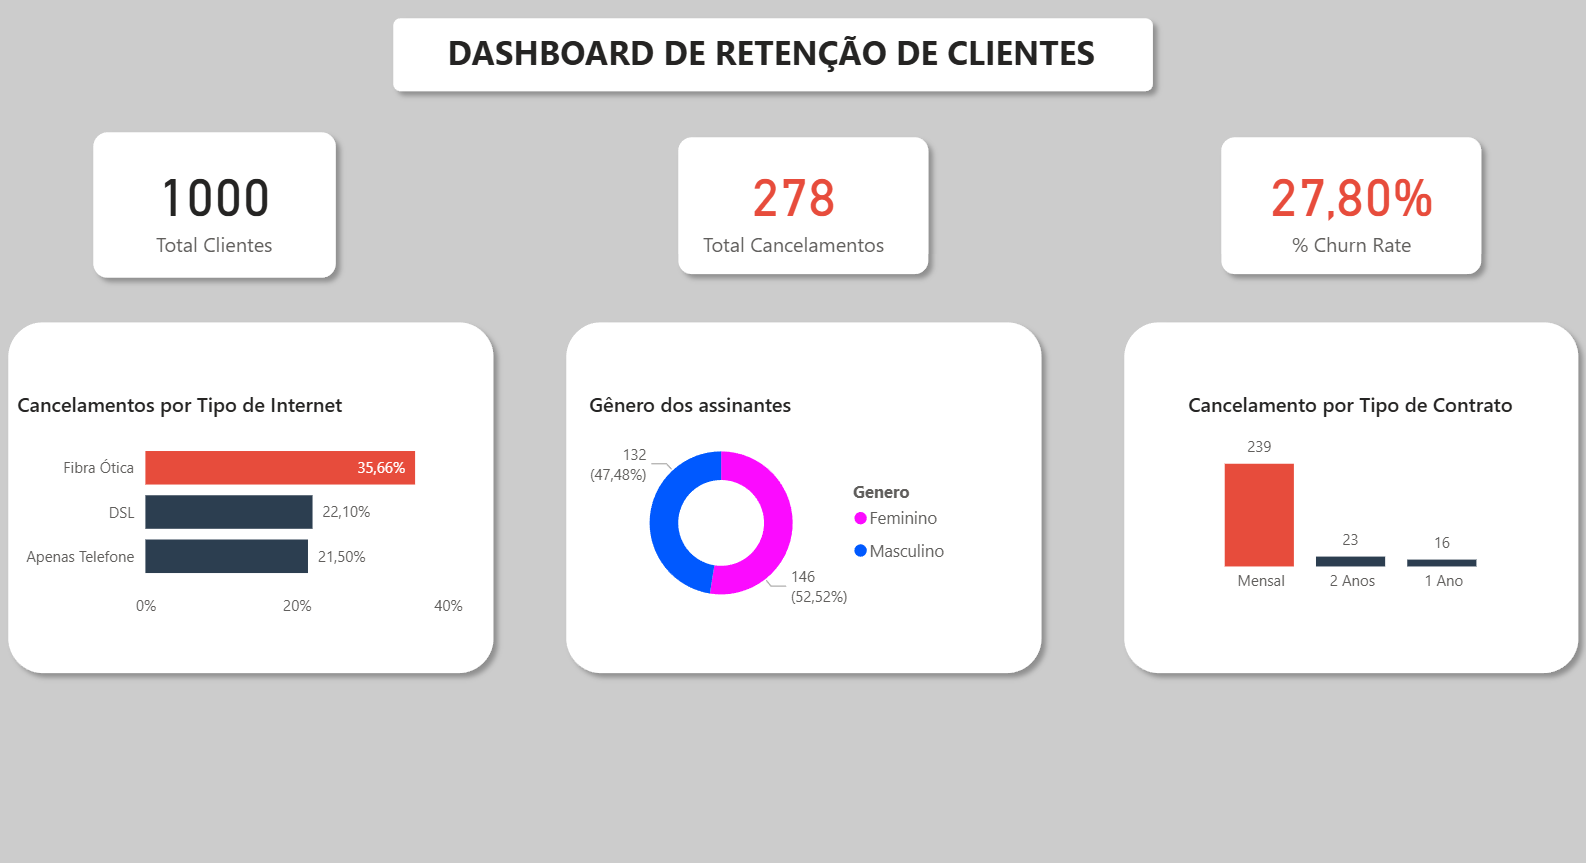

The page's visual inventory and layout, read from the dashboard file:
{"tool":"powerbi","page":{"name":"Página 1","canvas":[1280,720],"ordinal":0},"visuals":[{"type":"shape","box":[309.5,6.7,628.5,76.6],"z":0},{"type":"shape","box":[538,102,219,128],"z":1000},{"type":"shape","box":[975,102,227,128],"z":2000},{"type":"shape","box":[68,98,213,135],"z":3000},{"type":"shape","box":[897,251,383,300],"z":4000},{"type":"shape","box":[0,251,408,300],"z":5000},{"type":"shape","box":[448,251,400,300],"z":6000},{"type":"textbox","box":[339.2,19.2,566.2,46],"z":7000},{"type":"card","fields":{"Values":["_Medidas.Total Clientes"]},"box":[106,120,137,92],"z":8000},{"type":"card","fields":{"Values":["_Medidas.Total Cancelamentos"]},"box":[556,120,168,92],"z":9000},{"type":"card","fields":{"Values":["_Medidas.% Churn Rate"]},"box":[996,120,186,92],"z":10000},{"type":"clusteredBarChart","title":"Cancelamentos por Tipo de Internet","fields":{"Category":["base_telecom_techconnect.Tipo_Internet"],"Y":["_Medidas.% Churn Rate"]},"box":[11,315,385,191],"z":11000},{"type":"clusteredColumnChart","title":"Cancelamento por Tipo de Contrato","fields":{"Category":["base_telecom_techconnect.Tipo_Contrato"],"Y":["_Medidas.Total Cancelamentos"]},"box":[952,315,274,171],"z":12000},{"type":"donutChart","title":"Gênero dos assinantes","fields":{"Category":["base_telecom_techconnect.Genero"],"Y":["_Medidas.Total Cancelamentos"]},"box":[471,315,305,191],"z":13000}]}

Visuals, with their boxes on the page's 1280x720 design canvas (x1, y1, x2, y2). These are canvas units, not pixel positions in the 1586x863 screenshot, which may show the page scaled, cropped or inside an application window:
shape: bbox=(310, 7, 938, 83)
shape: bbox=(538, 102, 757, 230)
shape: bbox=(975, 102, 1202, 230)
shape: bbox=(68, 98, 281, 233)
shape: bbox=(897, 251, 1280, 551)
shape: bbox=(0, 251, 408, 551)
shape: bbox=(448, 251, 848, 551)
textbox: bbox=(339, 19, 905, 65)
card - _Medidas.Total Clientes: bbox=(106, 120, 243, 212)
card - _Medidas.Total Cancelamentos: bbox=(556, 120, 724, 212)
card - _Medidas.% Churn Rate: bbox=(996, 120, 1182, 212)
"Cancelamentos por Tipo de Internet" clusteredBarChart: bbox=(11, 315, 396, 506)
"Cancelamento por Tipo de Contrato" clusteredColumnChart: bbox=(952, 315, 1226, 486)
"Gênero dos assinantes" donutChart: bbox=(471, 315, 776, 506)
